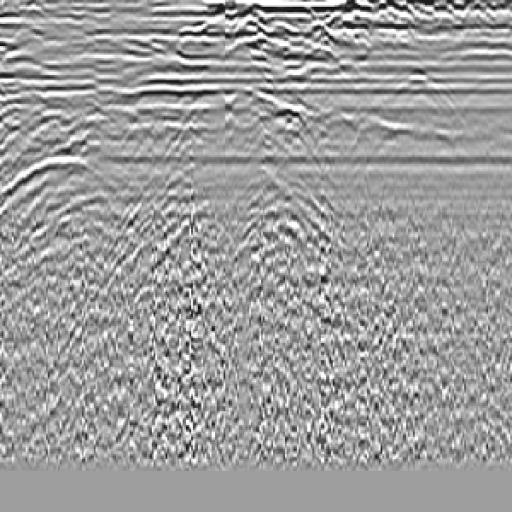metalic: (205, 76, 358, 276)
non-metallic: (1, 137, 168, 254)
